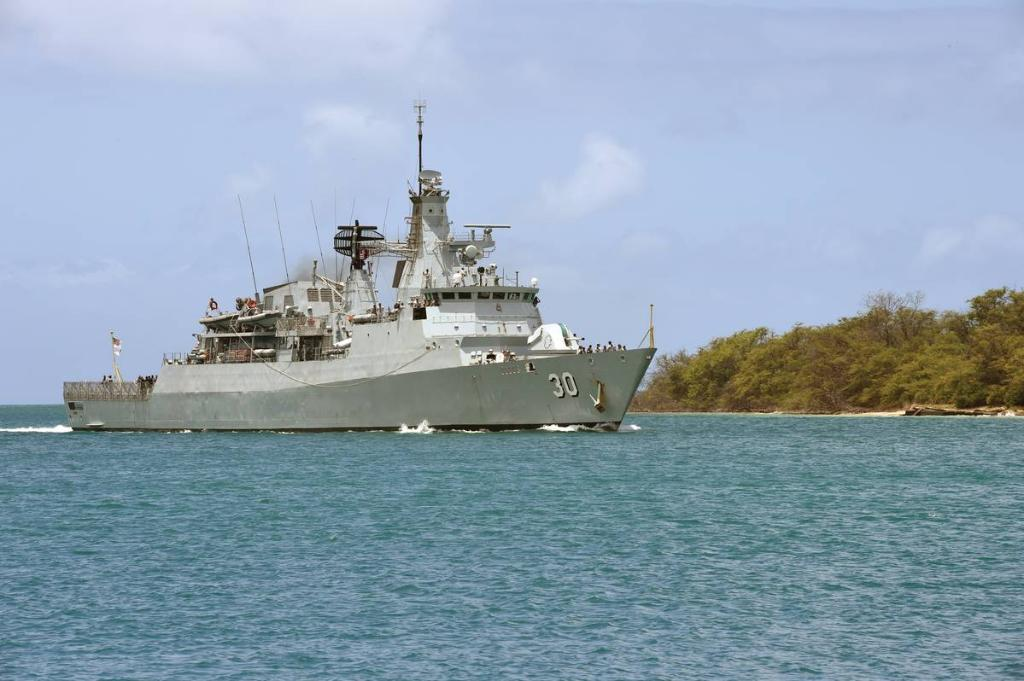Warship: (55, 102, 669, 456)
